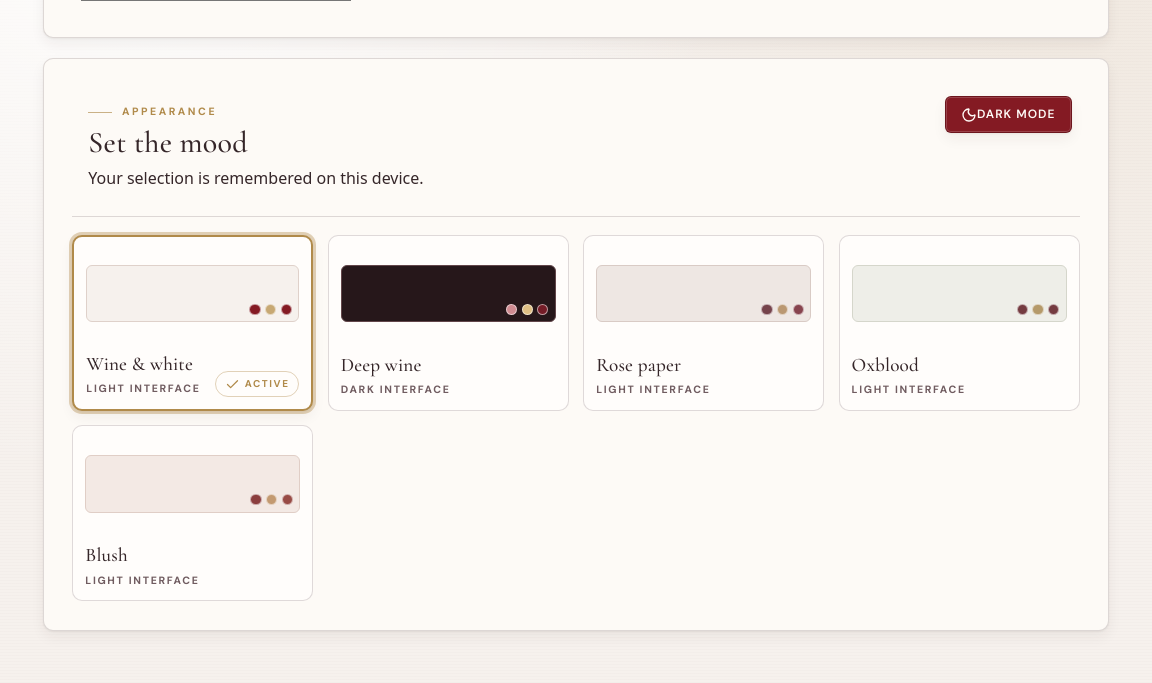
Preferences page › marks the theme in use and moves the mark to the chosen palette
This screenshot has width=1152, height=683.
(page scrolled)
Check: the button "Wine & white Light interface Active" is shown, box x1=72 y1=235 x2=313 y2=411
Click the button "Deep wine Dark interface".
click(448, 323)  # box x1=328 y1=235 x2=569 y2=411
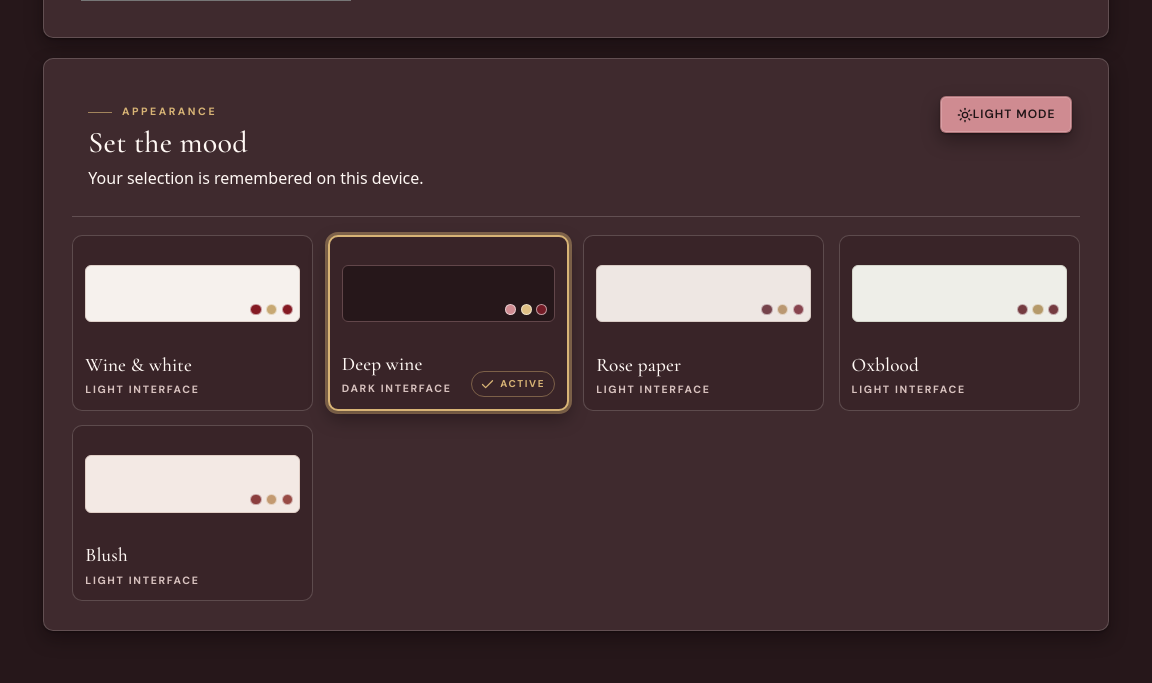
Check: the button "Deep wine Dark interface Active" is shown, box x1=328 y1=235 x2=569 y2=411
